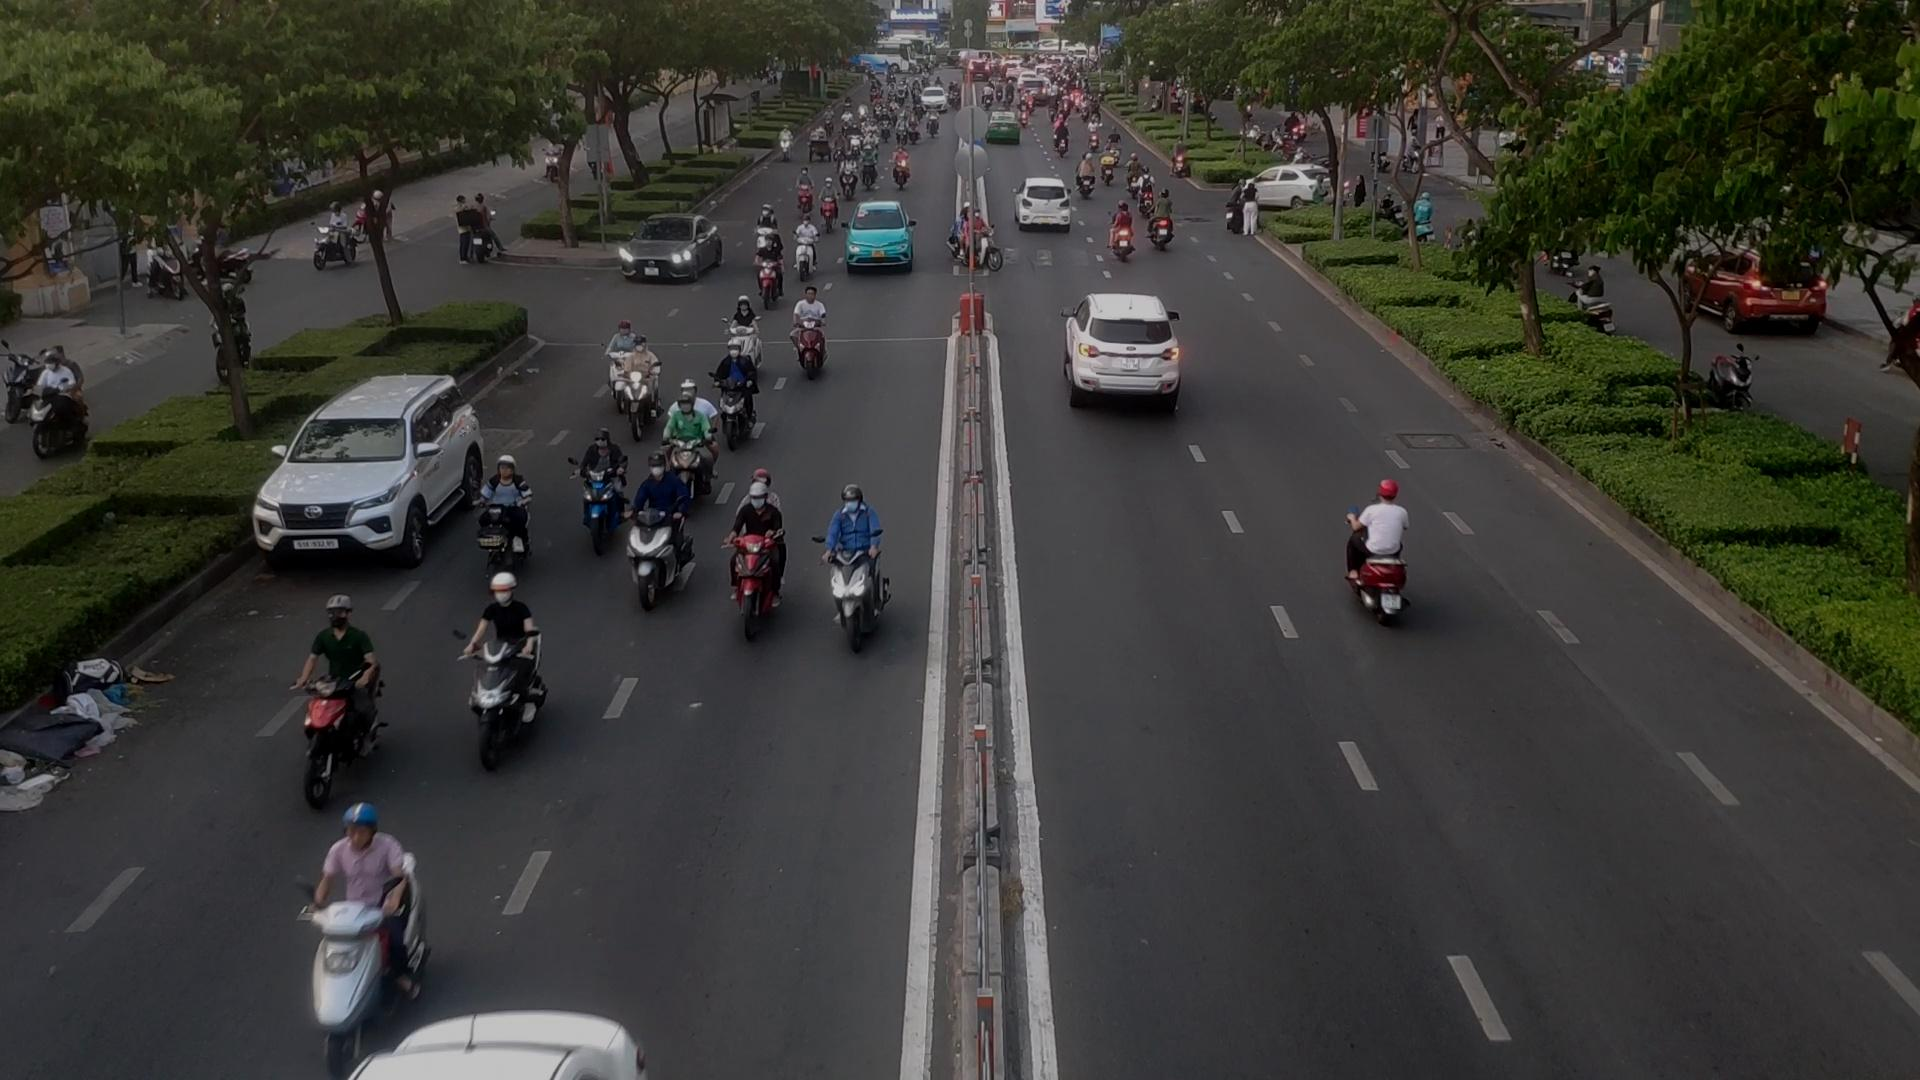car: (255, 376, 491, 567), (1062, 295, 1182, 397), (618, 218, 728, 286), (847, 203, 919, 268), (1017, 178, 1073, 233)
motorbike: (448, 576, 551, 789), (327, 841, 426, 1036), (301, 670, 393, 804), (1331, 491, 1418, 607), (715, 498, 791, 630), (626, 456, 687, 608), (828, 508, 866, 650), (789, 285, 836, 377), (495, 468, 531, 562), (725, 299, 767, 381), (723, 347, 764, 430), (953, 211, 1007, 272), (583, 425, 609, 549), (609, 314, 637, 423), (632, 342, 666, 429), (680, 407, 707, 506), (752, 237, 785, 295), (796, 212, 822, 270), (758, 196, 785, 251), (1150, 204, 1176, 255), (1116, 204, 1138, 258), (894, 152, 918, 189), (837, 160, 858, 200), (822, 187, 841, 231), (794, 164, 812, 210), (1139, 167, 1155, 211), (1130, 157, 1146, 198), (865, 157, 884, 187)
